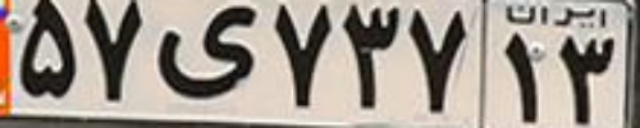1: (501, 31, 536, 123)
3: (342, 4, 398, 109), (556, 33, 615, 125)
5: (18, 0, 79, 98)
7: (273, 3, 334, 108), (83, 0, 144, 102), (408, 7, 466, 113)
ye: (155, 5, 261, 99)
